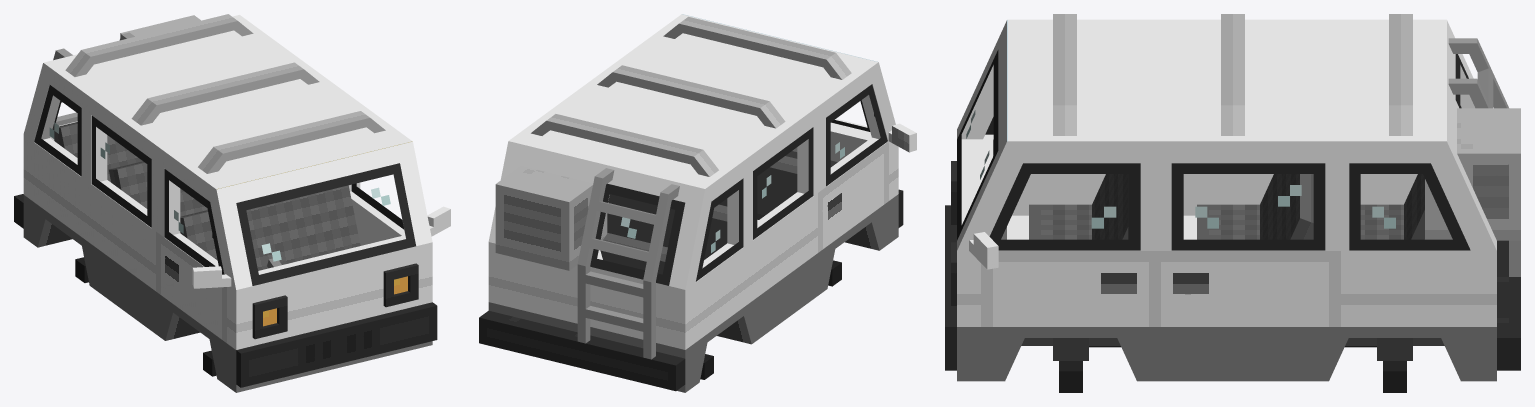
Rendered from mini_bus_body.gltf.
3 renders of one model, left to right at view 1: azimuth 30°, elevation 25°; view 2: azimuth 150°, elevation 25°; view 3: azimuth 270°, elevation 25°, orthographic. The views are drawn at different scales.
Parts seen in each view (by area): view 1: cube (×37); view 2: cube (×43); view 3: cube (×46).
Part boxes in pixels (bbox=[...]): cube (×37): bbox=[23, 14, 450, 392]; cube (×43): bbox=[479, 14, 916, 392]; cube (×46): bbox=[945, 14, 1520, 392].
Size of the model in its own units: 1.96 by 1.66 by 3.
2 materials, 2 textured.
